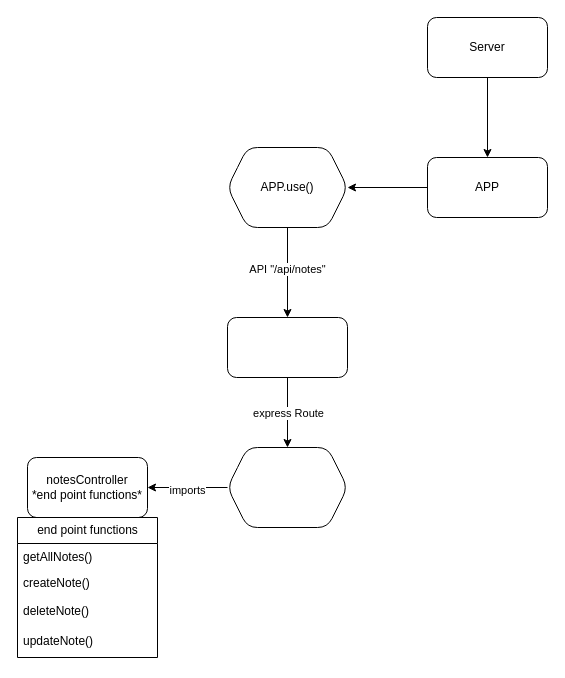
Image size: 565x678. Some labels were removed from this diagram. Here are the shapes that lost their labels. From the top down, the centre of each, then its label:
At (x=287, y=347): "notesRoutes.js".
At (x=287, y=487): "router get() post() put() delete()".
